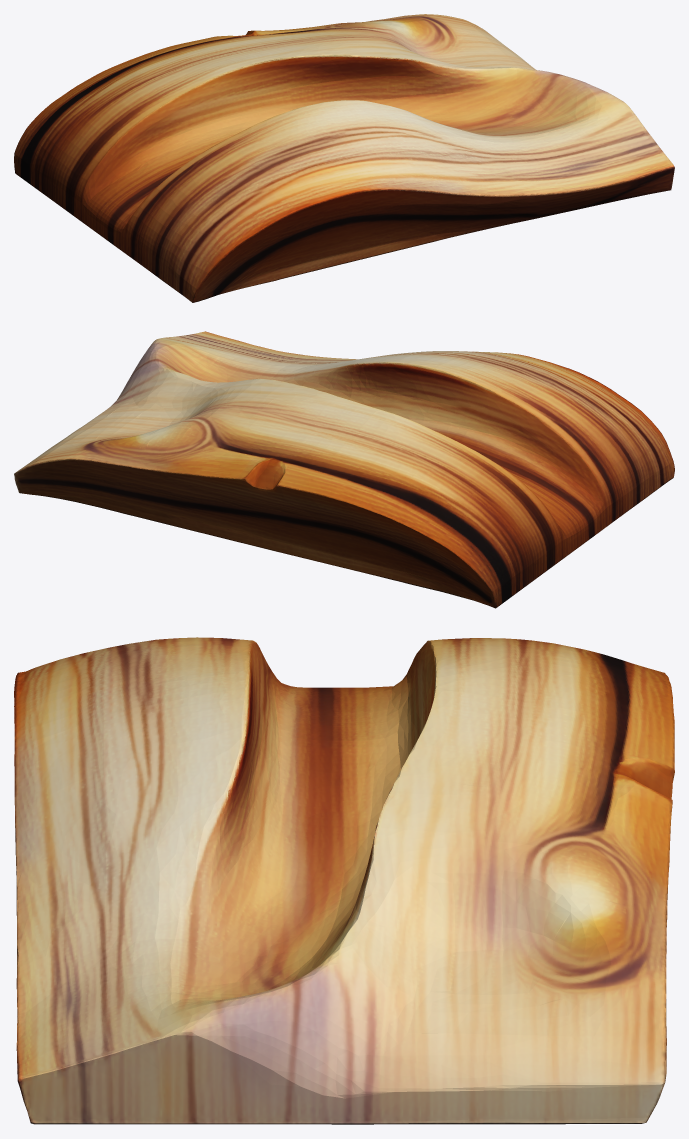
File: wooden-business-card-holder-dune.jpeg.glb
3 renders of one model, top to bottom at view 1: azimuth 30°, elevation 25°; view 2: azimuth 150°, elevation 25°; view 3: azimuth 270°, elevation 25°, orthographic. The views are drawn at different scales.
Visible parts, largest first — view 1: world; view 2: world; view 3: world.
Boxes of the visible parts, x1,y1,x2,y2 form: world: (14,14,674,302); world: (14,331,674,608); world: (14,637,674,1124).
Size of the model in its own units: 1 by 0.2252 by 0.7111.
Materials: 1 (1 with a texture image).
